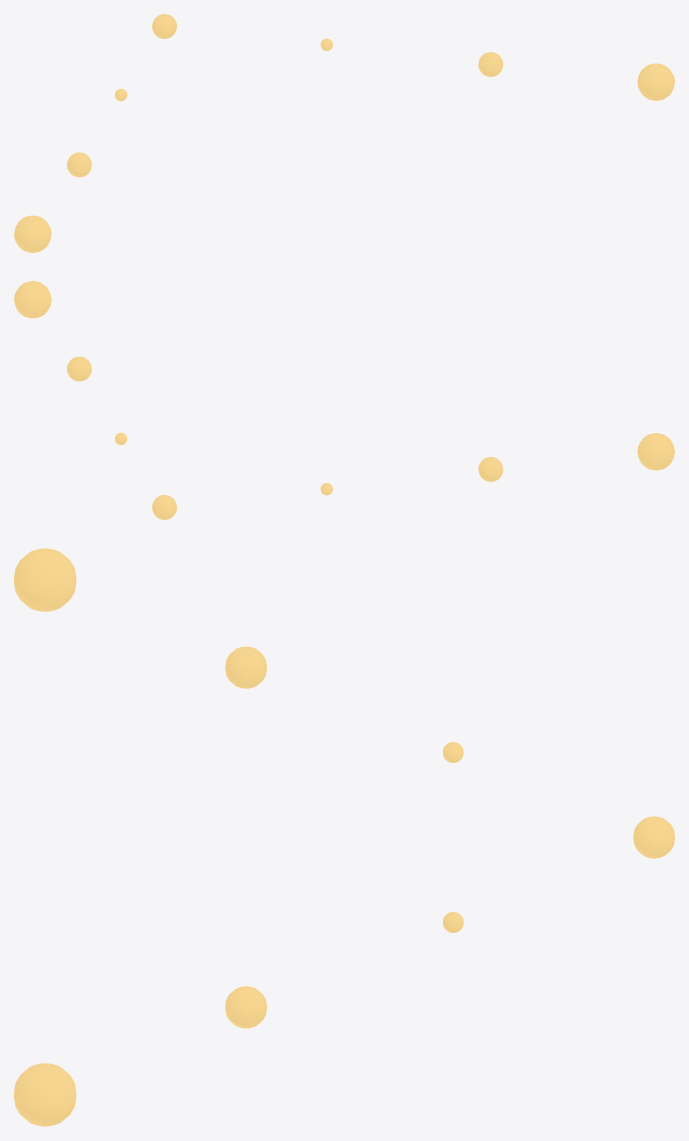
Rendered from light-v.glb.
3 renders of one model, top to bottom at view 1: azimuth 30°, elevation 25°; view 2: azimuth 150°, elevation 25°; view 3: azimuth 270°, elevation 25°, orthographic. The views are drawn at different scales.
Parts seen in each view (by area): view 1: v; view 2: v; view 3: v.
Part boxes in pixels (x1=…): v: x1=14, y1=14, x2=674, y2=252; v: x1=14, y1=281, x2=674, y2=519; v: x1=14, y1=548, x2=674, y2=1126.
Bounding box in the file's own units: 305 × 15.22 × 157.
